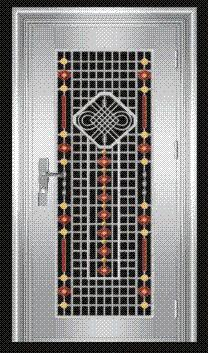door: (22, 18, 187, 339)
